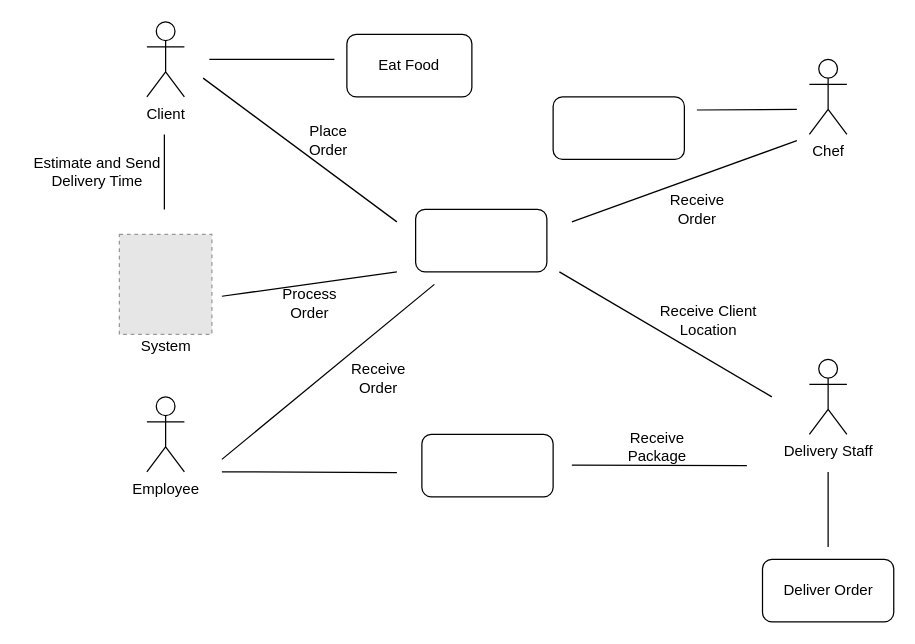
The diagram is 915 pixels wide and 644 high, and some of its shapes have lost their labels. Grey dashed boxes stand in for pictures. The shapes that lost their labels are listed below. From the top down, each one's centre as x and y in pixels, then its label:
the point at 618,127: Cook Food
the point at 480,240: Order and Pay For Food
the point at 487,465: Package Order
